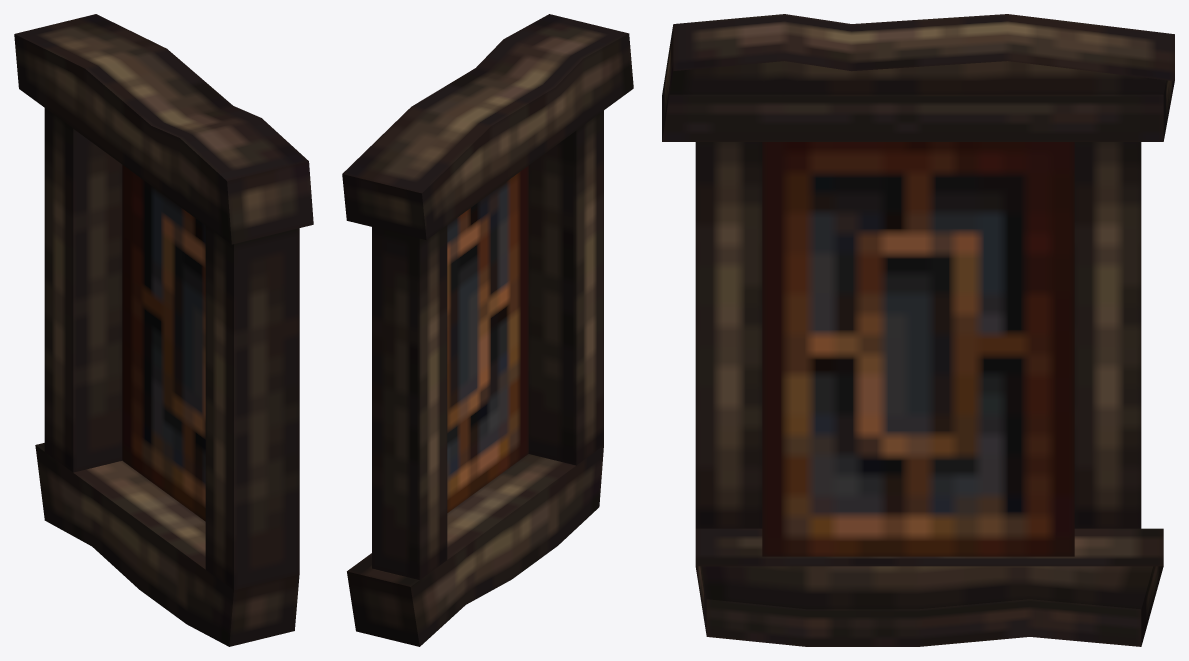
Rendered from EnvBdgMD_Desert_A_Indoor_Window_A.FBX.
The picture shows the model from 3 angles, left to right: view 1: azimuth 30°, elevation 25°; view 2: azimuth 150°, elevation 25°; view 3: azimuth 270°, elevation 25°; orthographic projection. The views are drawn at different scales.
Parts seen in each view (by area): view 1: EnvBdgMD_Desert_A_Indoor_Window_A; view 2: EnvBdgMD_Desert_A_Indoor_Window_A; view 3: EnvBdgMD_Desert_A_Indoor_Window_A.
Part boxes in pixels (box(x1,y1,x2,y2)): EnvBdgMD_Desert_A_Indoor_Window_A: box(14, 14, 313, 646); EnvBdgMD_Desert_A_Indoor_Window_A: box(342, 14, 633, 646); EnvBdgMD_Desert_A_Indoor_Window_A: box(662, 14, 1174, 646).
Size of the model in its own units: 25 by 145 by 115.
